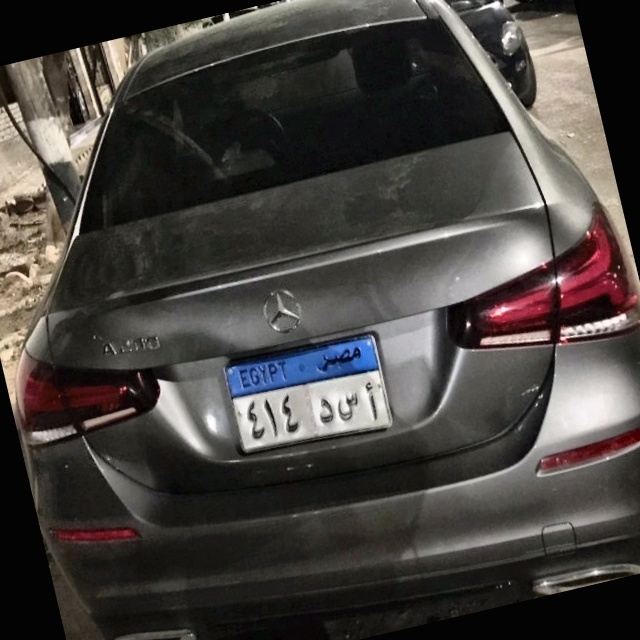License Plate: (220, 329, 398, 464)
